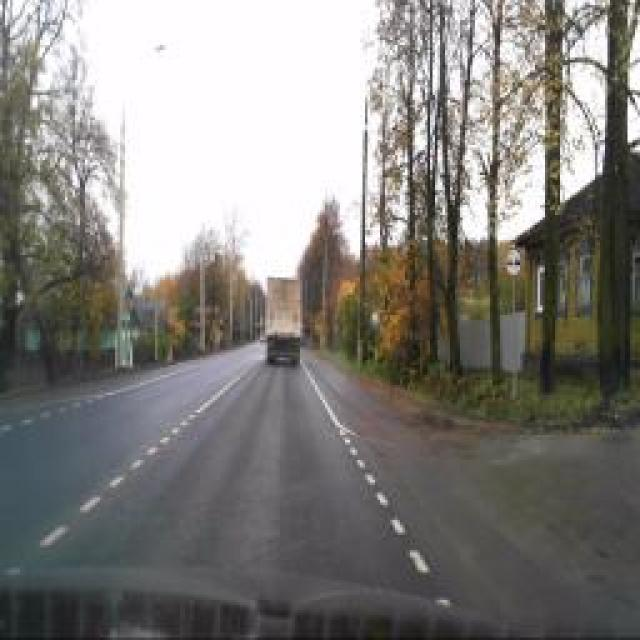sign: (505, 246, 523, 276)
